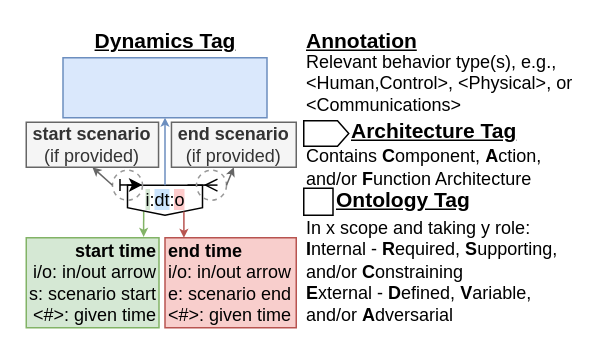
Some shapes in this 615 by 354 pixel diagram are drawn without their labels. Each missing label, with the centre of its shape:
CAF: [325,132]
change interval dt: unspecified <#>: given timestep: [164,87]
ID: [317,201]
